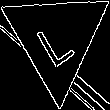L_NW: (33, 10, 81, 68)
